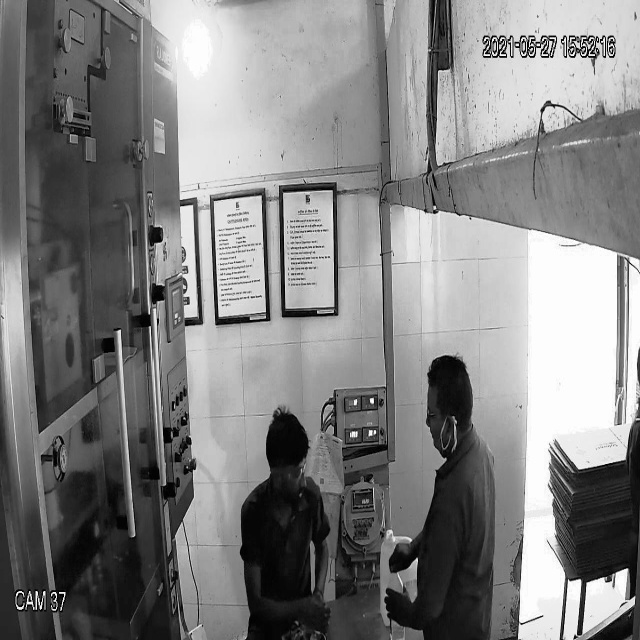Gafas: (265, 456, 310, 488)
